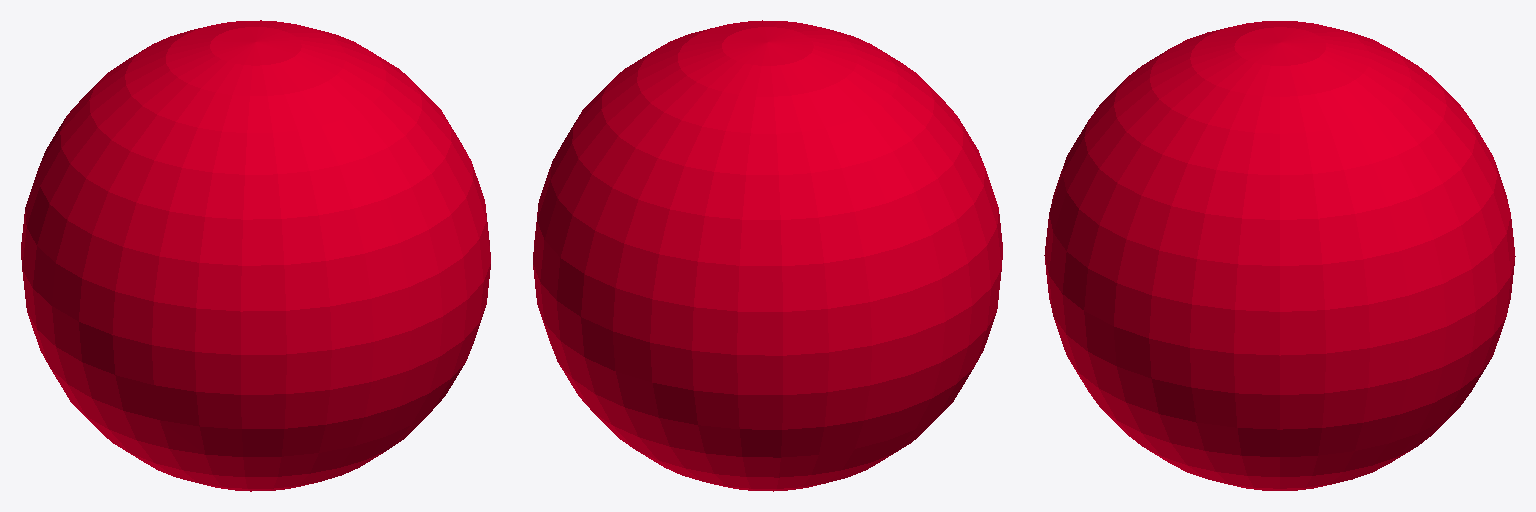
robot.urdf — lbr_iiwa:
<?xml version="1.0" ?>
<!-- ======================================================================= -->
<!-- | This document was autogenerated by xacro from lbr_iiwa.urdf.xacro   | -->
<!-- | Original xacro: https://github.com/rtkg/lbr_iiwa/archive/master.zip | -->
<!-- | EDITING THIS FILE BY HAND IS NOT RECOMMENDED                        | -->
<!-- | Changes ([author]):                                                 | -->
<!-- |   * Removed gazebo tags.                                            | -->
<!-- |   * Removed unused materials.                                       | -->
<!-- |   * Made mesh paths relative.                                       | -->
<!-- |   * Removed material fields from collision segments.                | -->
<!-- |   * Removed the self_collision_checking segment.                    | -->
<!-- |   * Removed transmission segments, since they didn't match the      | -->
<!-- |     convention, will have to added back later.                      | -->
<!-- ======================================================================= -->
<!--LICENSE:                                                                 -->
<!--Copyright (c) 2015, [author] & [author], AASS Research Center,  -->
<!--Orebro University, Sweden                                                -->
<!--All rights reserved.                                                     -->
<!--                                                                         -->
<!--Redistribution and use in source and binary forms, with or without       -->
<!--modification, are permitted provided that the following conditions are   -->
<!--met:                                                                     -->
<!--                                                                         -->
<!--1. Redistributions of source code must retain the above copyright notice,-->
<!--   this list of conditions and the following disclaimer.                 -->
<!--                                                                         -->
<!--2. Redistributions in binary form must reproduce the above copyright     -->
<!--   notice, this list of conditions and the following disclaimer in the   -->
<!--   documentation and/or other materials provided with the distribution.  -->
<!--                                                                         -->
<!--THIS SOFTWARE IS PROVIDED BY THE COPYRIGHT [author] "AS  -->
<!--IS" AND ANY EXPRESS OR IMPLIED WARRANTIES, INCLUDING, BUT NOT LIMITED TO,-->
<!--THE IMPLIED WARRANTIES OF MERCHANTABILITY AND FITNESS FOR A PARTICULAR   -->
<!--PURPOSE ARE DISCLAIMED. IN NO EVENT SHALL THE COPYRIGHT [author]        -->
<!--CONTRIBUTORS BE LIABLE FOR ANY DIRECT, INDIRECT, INCIDENTAL, SPECIAL,    -->
<!--EXEMPLARY, OR CONSEQUENTIAL DAMAGES (INCLUDING, BUT NOT LIMITED TO,      -->
<!--PROCUREMENT OF SUBSTITUTE GOODS OR SERVICES; LOSS OF USE, DATA, OR       -->
<!--PROFITS; OR BUSINESS INTERRUPTION) HOWEVER CAUSED AND ON ANY THEORY OF   -->
<!--LIABILITY, WHETHER IN CONTRACT, STRICT LIABILITY, OR TORT (INCLUDING     -->
<!--NEGLIGENCE OR OTHERWISE) ARISING IN ANY WAY OUT OF THE USE OF THIS       -->
<!--SOFTWARE, EVEN IF ADVISED OF THE POSSIBILITY OF SUCH DAMAGE.             -->

<robot name="lbr_iiwa" xmlns:xacro="http://www.ros.org/wiki/xacro">

  <!-- Import Rviz colors -->
  <material name="Grey">
    <color rgba="0.2 0.2 0.2 1.0"/>
  </material>
  <material name="Orange">
    <color rgba="1.0 0.423529411765 0.0392156862745 1.0"/>
  </material>
  <material name="Blue">
  <color rgba="0.5 0.7 1.0 1.0"/>
</material>
<material name="TransparentRed">
  <color rgba="0.9 0 0.2 0.5"/>
</material>

<link name="world"/>
<joint name="world_joint" type="fixed">
  <parent link="world"/>
  <child link="base_link"/>
  <origin rpy="0.0 0.0 0.0" xyz="0.0 0.0 0.0"/>
</joint>


  <link name="base_link">
    <inertial>
      <origin rpy="0 0 0" xyz="-0.1 0 0.07"/>
      <mass value="0.0"/>
      <inertia ixx="0.05" ixy="0" ixz="0" iyy="0.06" iyz="0" izz="0.03"/>
    </inertial>
    <visual>
      <origin rpy="0 0 0" xyz="0 0 0"/>
      <geometry>
        <mesh filename="meshes/link_0.obj"/>
      </geometry>
      <material name="Grey"/>
    </visual>
    <collision>
      <origin rpy="0 0 0" xyz="0 0 0"/>
      <geometry>
        <mesh filename="meshes/link_0.stl"/>
      </geometry>
    </collision>
  </link>

  <!-- joint between link_0 and link_1 -->
  <joint name="lbr_iiwa_joint_1" type="revolute">
    <parent link="base_link"/>
    <child link="lbr_iiwa_link_1"/>
    <origin rpy="0 0 0" xyz="0 0 0.1575"/>
    <axis xyz="0 0 1"/>
    <limit effort="300" lower="-100" upper="100" velocity="10"/>
    <dynamics damping="0.5"/>
  </joint>

  <link name="lbr_iiwa_link_1">
    <inertial>
      <origin rpy="0 0 0" xyz="0 -0.03 0.12"/>
      <mass value="4"/>
      <inertia ixx="0.1" ixy="0" ixz="0" iyy="0.09" iyz="0" izz="0.02"/>
    </inertial>
    <visual>
      <origin rpy="0 0 0" xyz="0 0 0"/>
      <geometry>
        <mesh filename="meshes/link_1.obj"/>
      </geometry>
      <material name="Blue"/>
    </visual>
    <collision>
      <origin rpy="0 0 0" xyz="0 0 0"/>
      <geometry>
        <mesh filename="meshes/link_1.stl"/>
      </geometry>
    </collision>
  </link>

  <!-- joint between link_1 and link_2 -->
  <joint name="lbr_iiwa_joint_2" type="revolute">
    <parent link="lbr_iiwa_link_1"/>
    <child link="lbr_iiwa_link_2"/>
    <origin rpy="1.57079632679   0 3.14159265359" xyz="0 0 0.2025"/>
    <axis xyz="0 0 1"/>
    <limit effort="300" lower="-100" upper="100" velocity="10"/>
    <dynamics damping="0.5"/>
  </joint>

  <link name="lbr_iiwa_link_2">
    <inertial>
      <origin rpy="0 0 0" xyz="0.0003 0.059 0.042"/>
      <mass value="4"/>
      <inertia ixx="0.05" ixy="0" ixz="0" iyy="0.018" iyz="0" izz="0.044"/>
    </inertial>
    <visual>
      <origin rpy="0 0 0" xyz="0 0 0"/>
      <geometry>
        <mesh filename="meshes/link_2.obj"/>
      </geometry>
      <material name="Blue"/>
    </visual>
    <collision>
      <origin rpy="0 0 0" xyz="0 0 0"/>
      <geometry>
        <mesh filename="meshes/link_2.stl"/>
      </geometry>
    </collision>
  </link>

  <!-- joint between link_2 and link_3 -->
  <joint name="lbr_iiwa_joint_3" type="revolute">
    <parent link="lbr_iiwa_link_2"/>
    <child link="lbr_iiwa_link_3"/>
    <origin rpy="1.57079632679 0 3.14159265359" xyz="0 0.2045 0"/>
    <axis xyz="0 0 1"/>
    <limit effort="300" lower="-100" upper="100" velocity="10"/>
    <dynamics damping="0.5"/>
  </joint>

  <link name="lbr_iiwa_link_3">
    <inertial>
      <origin rpy="0 0 0" xyz="0 0.03 0.13"/>
      <mass value="3"/>
      <inertia ixx="0.08" ixy="0" ixz="0" iyy="0.075" iyz="0" izz="0.01"/>
    </inertial>
    <visual>
      <origin rpy="0 0 0" xyz="0 0 0"/>
      <geometry>
        <mesh filename="meshes/link_3.obj"/>
      </geometry>
      <material name="Orange"/>
    </visual>
    <collision>
      <origin rpy="0 0 0" xyz="0 0 0"/>
      <geometry>
        <mesh filename="meshes/link_3.stl"/>
      </geometry>
    </collision>
  </link>

  <!-- joint between link_3 and link_4 -->
  <joint name="lbr_iiwa_joint_4" type="revolute">
    <parent link="lbr_iiwa_link_3"/>
    <child link="lbr_iiwa_link_4"/>
    <origin rpy="1.57079632679 0 0" xyz="0 0 0.2155"/>
    <axis xyz="0 0 1"/>
    <limit effort="300" lower="-100" upper="100" velocity="10"/>
    <dynamics damping="0.5"/>
  </joint>

  <link name="lbr_iiwa_link_4">
    <inertial>
      <origin rpy="0 0 0" xyz="0 0.067 0.034"/>
      <mass value="2.7"/>
      <inertia ixx="0.03" ixy="0" ixz="0" iyy="0.01" iyz="0" izz="0.029"/>
    </inertial>
    <visual>
      <origin rpy="0 0 0" xyz="0 0 0"/>
      <geometry>
        <mesh filename="meshes/link_4.obj"/>
      </geometry>
      <material name="Blue"/>
    </visual>
    <collision>
      <origin rpy="0 0 0" xyz="0 0 0"/>
      <geometry>
        <mesh filename="meshes/link_4.stl"/>
      </geometry>
    </collision>
  </link>

  <!-- joint between link_4 and link_5 -->
  <joint name="lbr_iiwa_joint_5" type="revolute">
    <parent link="lbr_iiwa_link_4"/>
    <child link="lbr_iiwa_link_5"/>
    <origin rpy="-1.57079632679 3.14159265359 0" xyz="0 0.1845 0"/>
    <axis xyz="0 0 1"/>
    <limit effort="300" lower="-100" upper="100" velocity="10"/>
    <dynamics damping="0.5"/>
  </joint>

  <link name="lbr_iiwa_link_5">
    <inertial>
      <origin rpy="0 0 0" xyz="0.0001 0.021 0.076"/>
      <mass value="1.7"/>
      <inertia ixx="0.02" ixy="0" ixz="0" iyy="0.018" iyz="0" izz="0.005"/>
    </inertial>
    <visual>
      <origin rpy="0 0 0" xyz="0 0 0"/>
      <geometry>
        <mesh filename="meshes/link_5.obj"/>
      </geometry>
      <material name="Blue"/>
    </visual>
    <collision>
      <origin rpy="0 0 0" xyz="0 0 0"/>
      <geometry>
        <mesh filename="meshes/link_5.stl"/>
      </geometry>
    </collision>
  </link>

  <!-- joint between link_5 and link_6 -->
  <joint name="lbr_iiwa_joint_6" type="revolute">
    <parent link="lbr_iiwa_link_5"/>
    <child link="lbr_iiwa_link_6"/>
    <origin rpy="1.57079632679 0 0" xyz="0 0 0.2155"/>
    <axis xyz="0 0 1"/>
    <limit effort="300" lower="-100" upper="100" velocity="10"/>
    <dynamics damping="0.5"/>
  </joint>

  <link name="lbr_iiwa_link_6">
    <inertial>
      <origin rpy="0 0 0" xyz="0 0.0006 0.0004"/>
      <mass value="1.8"/>
      <inertia ixx="0.005" ixy="0" ixz="0" iyy="0.0036" iyz="0" izz="0.0047"/>
    </inertial>
    <visual>
      <origin rpy="0 0 0" xyz="0 0 0"/>
      <geometry>
        <mesh filename="meshes/link_6.obj"/>
      </geometry>
      <material name="Orange"/>
    </visual>
    <collision>
      <origin rpy="0 0 0" xyz="0 0 0"/>
      <geometry>
        <mesh filename="meshes/link_6.stl"/>
      </geometry>
    </collision>
  </link>

  <!-- joint between link_6 and link_7 -->
  <joint name="lbr_iiwa_joint_7" type="revolute">
    <parent link="lbr_iiwa_link_6"/>
    <child link="lbr_iiwa_link_7"/>
    <origin rpy="-1.57079632679 3.14159265359 0" xyz="0 0.081 0"/>
    <axis xyz="0 0 1"/>
    <limit effort="300" lower="-100" upper="100" velocity="10"/>
    <dynamics damping="0.5"/>
  </joint>

  <link name="lbr_iiwa_link_7">
    <inertial>
      <origin rpy="0 0 0" xyz="0 0 0.02"/>
      <mass value="0.3"/>
      <inertia ixx="0.001" ixy="0" ixz="0" iyy="0.001" iyz="0" izz="0.001"/>
    </inertial>
    <visual>
      <origin rpy="0 0 0" xyz="0 0 0"/>
      <geometry>
        <mesh filename="meshes/link_7.obj"/>
      </geometry>
      <material name="Grey"/>
    </visual>
    <collision>
      <origin rpy="0 0 0" xyz="0 0 0"/>
      <geometry>
        <mesh filename="meshes/link_7.stl"/>
      </geometry>
    </collision>
  </link>


  <!-- End Effector -->

  <joint name="ee_joint" type="fixed">
    <parent link="lbr_iiwa_link_7"/>
    <child link="ee_link"/>
    <origin rpy="3.14 0.0 0.0" xyz="0.0 0.0 0.04"/>
  </joint>

  <link name="ee_link">
    <visual>
      <origin rpy="0 0 0" xyz="0 0 0"/>
      <geometry>
        <sphere radius="0.005"/>
      </geometry>
       <material name="TransparentRed"/>
    </visual>
    <collision>
      <geometry>
        <sphere radius="0.001"/>
      </geometry>
      <origin rpy="0 0 0" xyz="0.0 0 0"/>
    </collision>
    <inertial>
      <mass value="0.0"/>
      <origin rpy="-3.14 0.0 1.57" xyz="0.0 0.0 0.0"/>
      <inertia ixx="0.001" ixy="0.0" ixz="0.0" iyy="0.001" iyz="0.0" izz="0.001"/>
    </inertial>
  </link>



</robot>

--- What the picture shows (computed from the rendered views, not written in the file) ---
Views: 3 orthographic renders of the robot side by side, from view 1: azimuth 30°, elevation 25°; view 2: azimuth 150°, elevation 25°; view 3: azimuth 270°, elevation 25°.
Robot: lbr_iiwa — 10 links, 9 joints (7 revolute, 2 fixed); root link world; default pose: every joint at zero.
Links seen in each view (by area): view 1: ee_link; view 2: ee_link; view 3: ee_link.
Boxes of the visible links, x1=… form: ee_link: x1=21, y1=20, x2=490, y2=491; ee_link: x1=533, y1=20, x2=1002, y2=491; ee_link: x1=1044, y1=21, x2=1515, y2=490.
Size in the robot's own frame: 0.01 by 0.01 by 0.01 metres.
0 mesh visuals loaded from 8 distinct referenced files (none loaded); not drawn: 8 (reference not matched to a file when rendering).